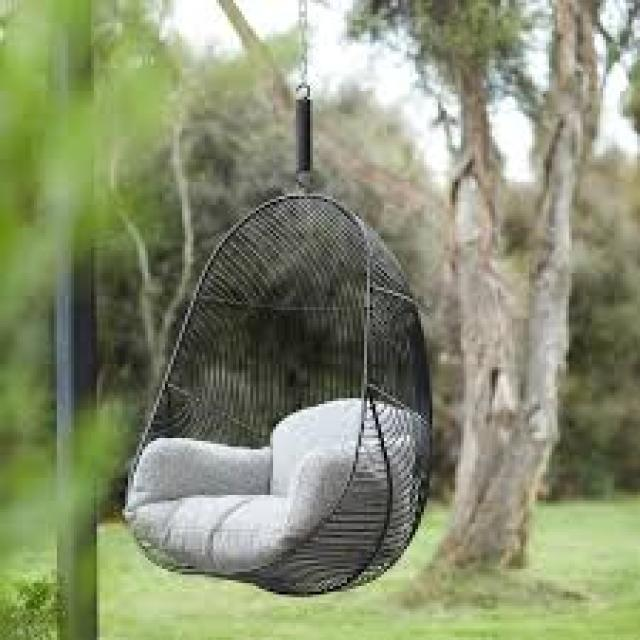chair: (98, 153, 470, 632)
